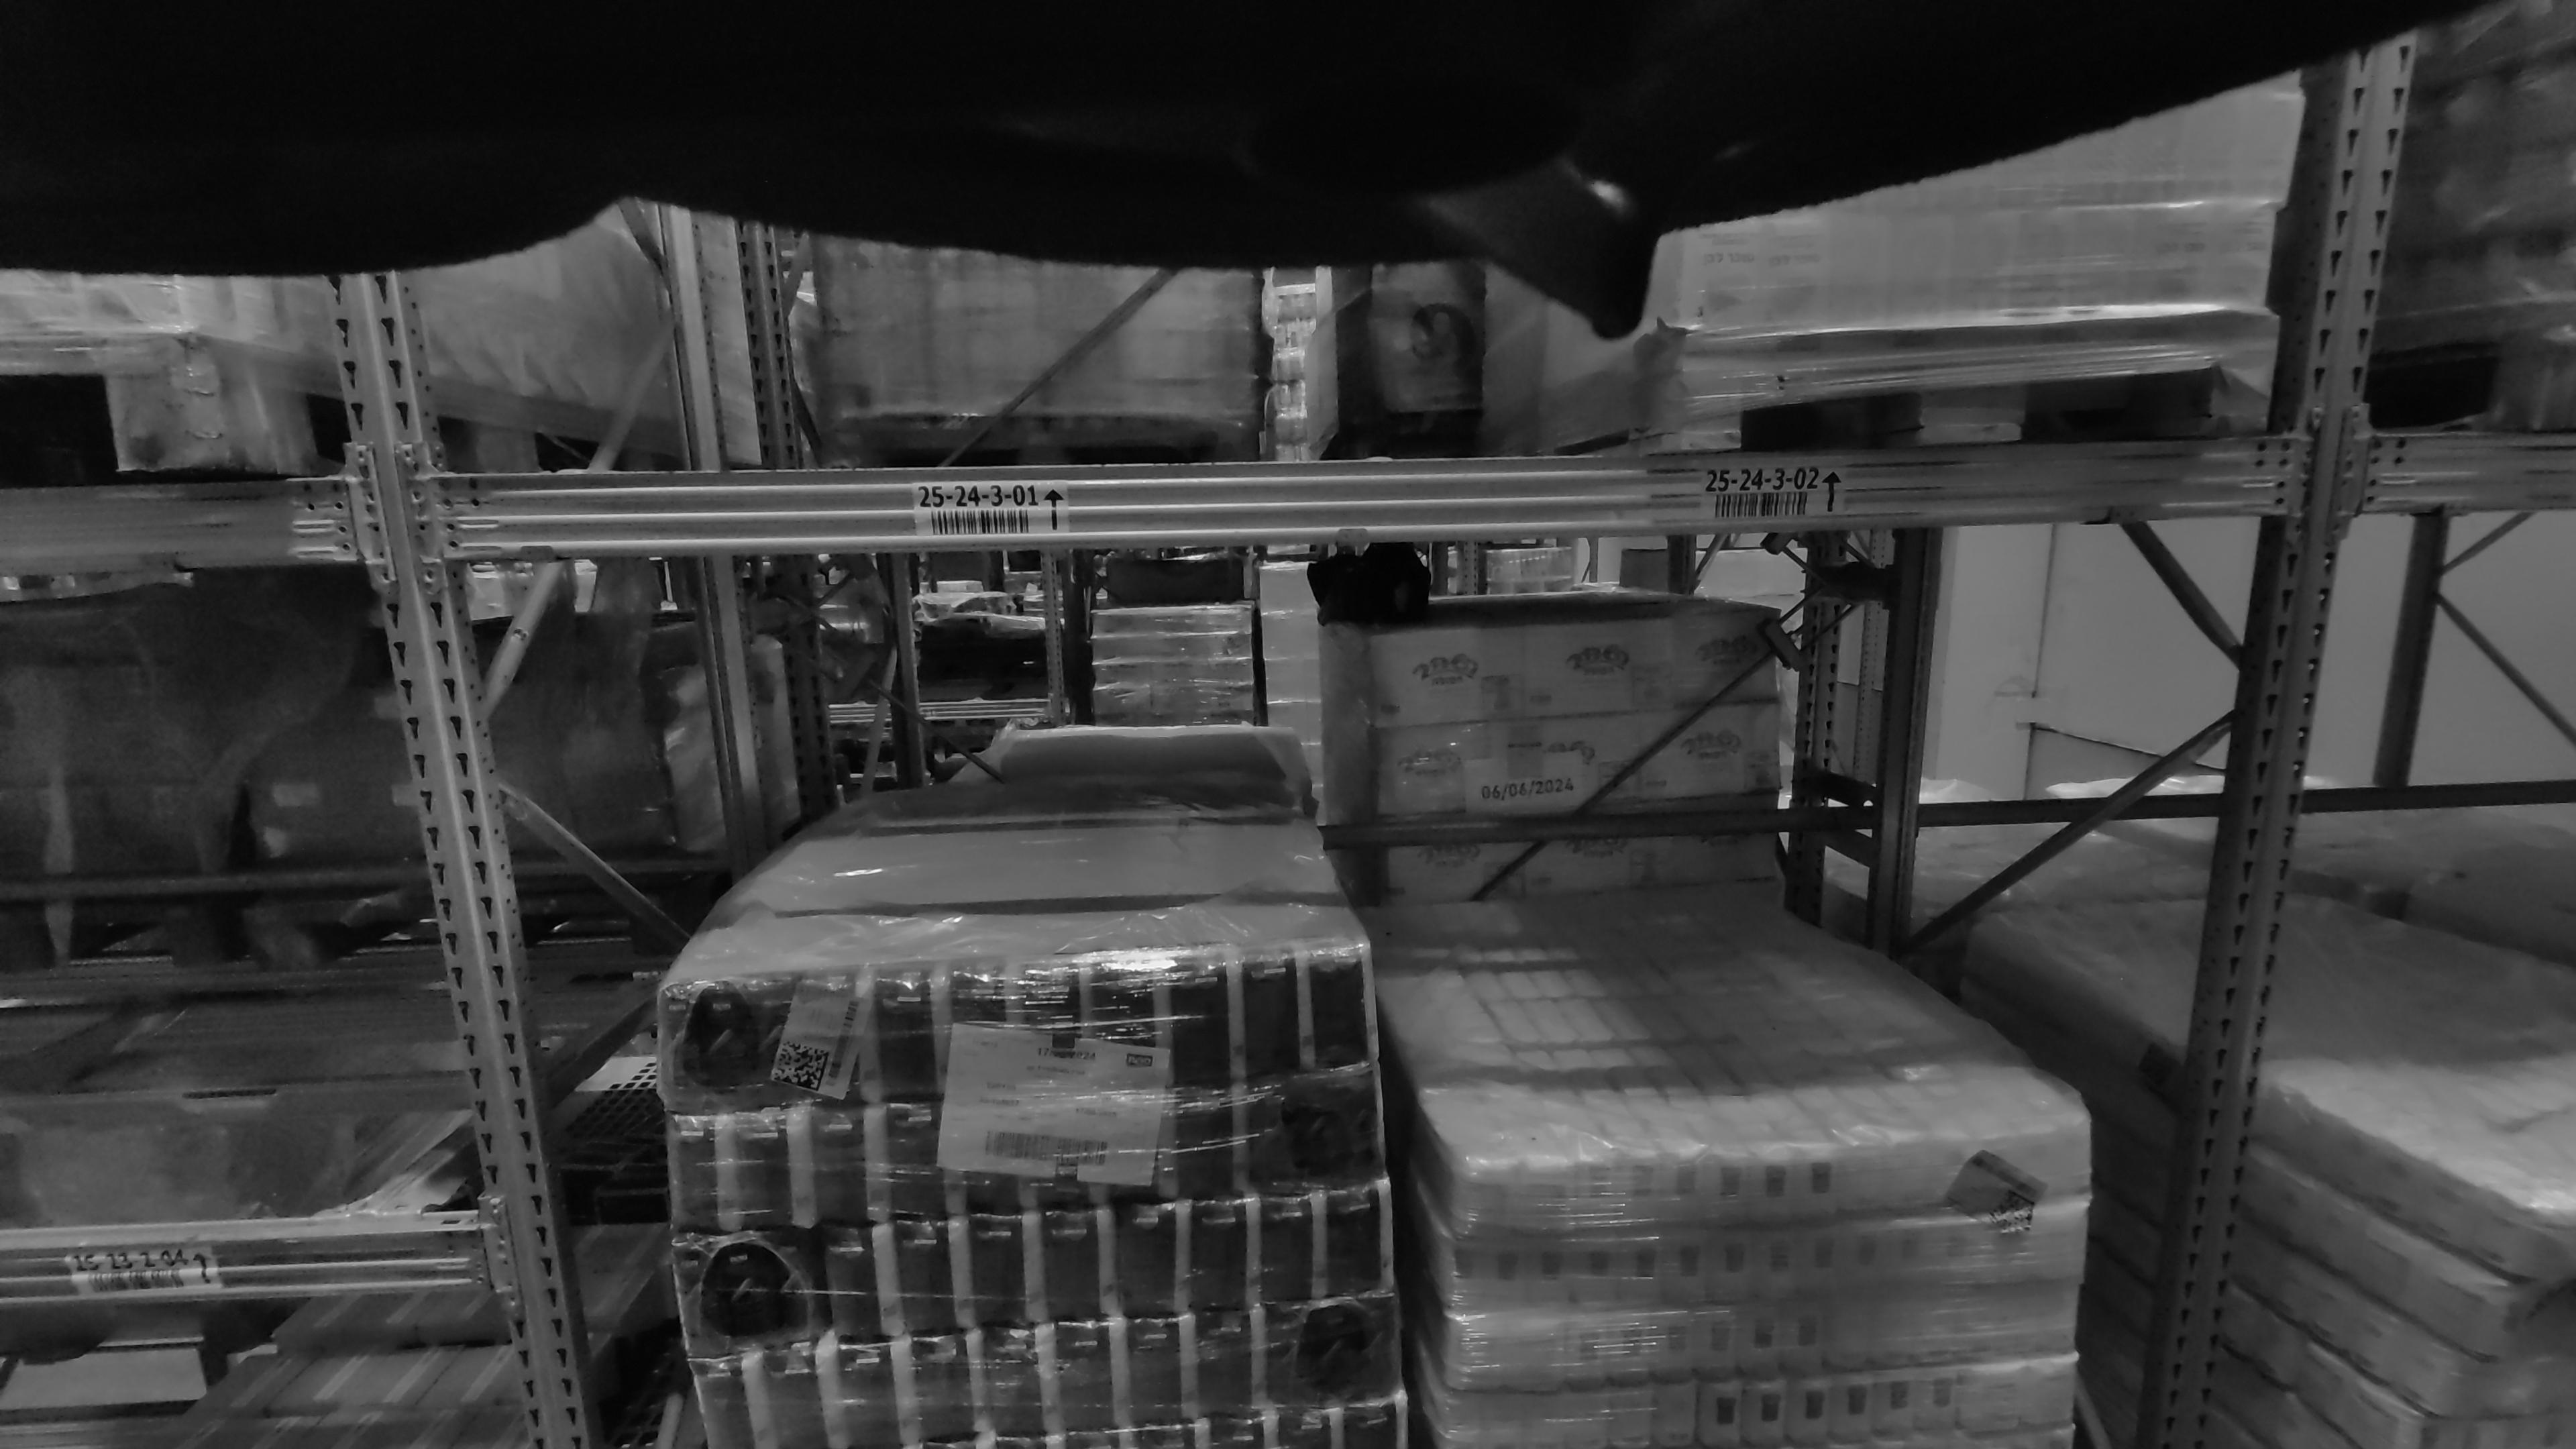empty-shelf: (0, 591, 396, 1228), (570, 198, 1481, 458)
